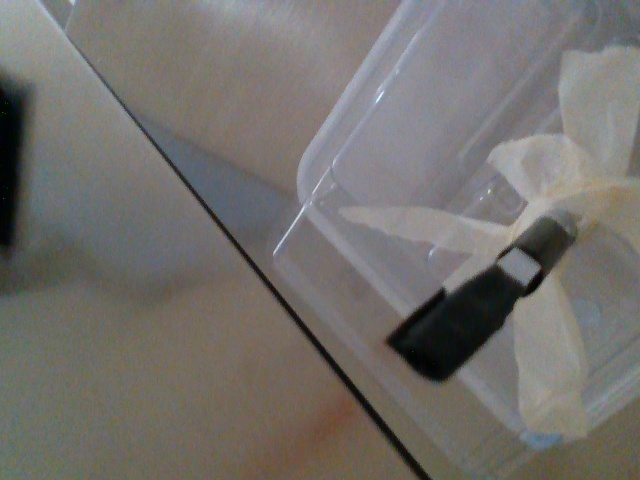test_strip: (383, 245, 540, 383)
